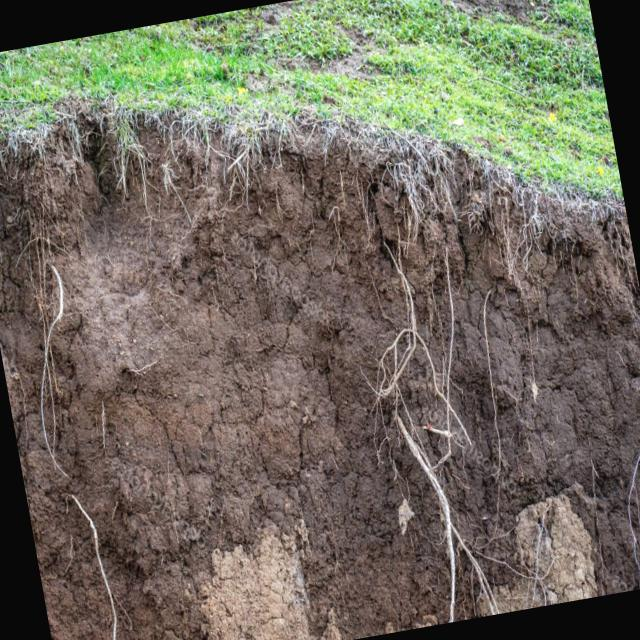suelo_humedo: (47, 84, 606, 632)
